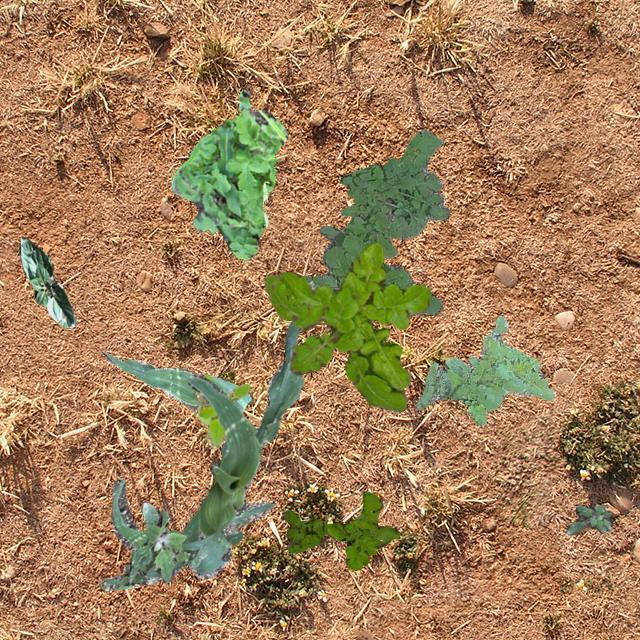crop: (180, 281, 314, 578), (98, 476, 274, 590), (101, 350, 252, 410), (18, 236, 76, 326)
weed: (262, 242, 430, 412), (302, 128, 448, 314), (170, 88, 286, 260), (414, 314, 554, 424), (282, 490, 398, 570), (118, 502, 188, 584), (195, 373, 249, 448), (566, 504, 610, 534)
